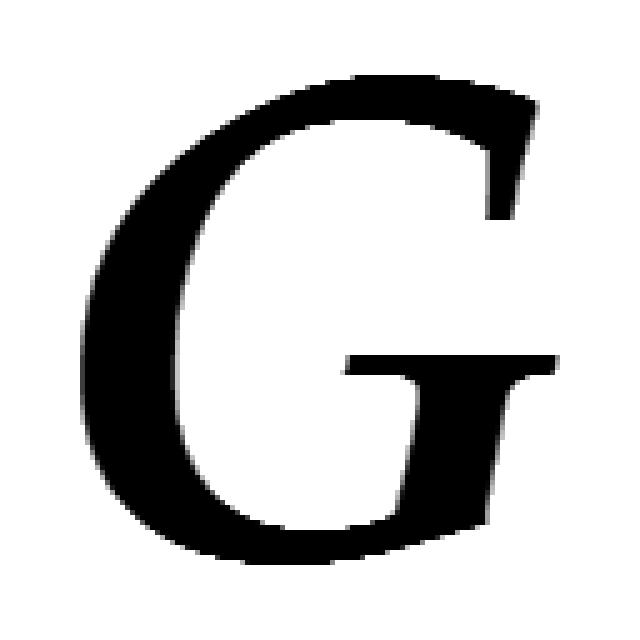G: (70, 65, 565, 570)
